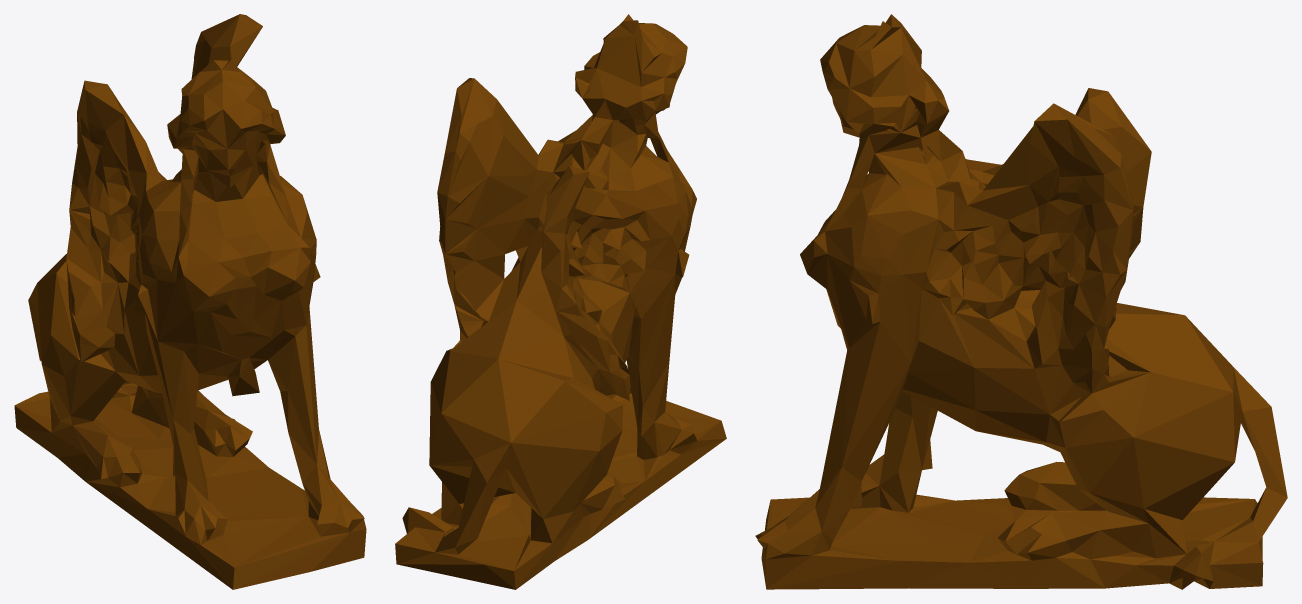
Rendered from Sphinx.glb.
3 renders of one model, left to right at view 1: azimuth 30°, elevation 25°; view 2: azimuth 150°, elevation 25°; view 3: azimuth 270°, elevation 25°, orthographic. The views are drawn at different scales.
Visible parts, largest first — view 1: Sphinx.low; view 2: Sphinx.low; view 3: Sphinx.low.
Part boxes in pixels (<box>): Sphinx.low: <box>14,14,366,589</box>; Sphinx.low: <box>395,14,726,589</box>; Sphinx.low: <box>755,14,1287,589</box>.
Bounding box in the file's own units: 8.86 × 22.45 × 20.57.
